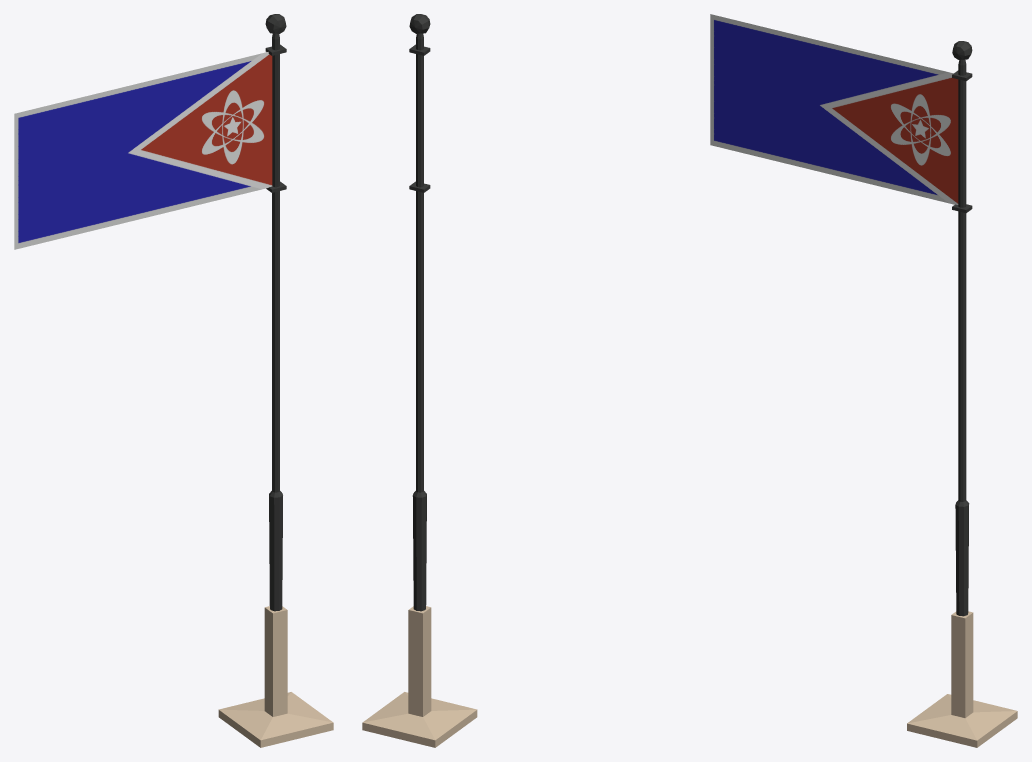
File: CountryFlag.glb
3 views of the same model, side by side, from view 1: azimuth 30°, elevation 25°; view 2: azimuth 150°, elevation 25°; view 3: azimuth 330°, elevation 25° (orthographic). The views are drawn at different scales.
Visible parts, largest first — view 1: flagPlane, flagPole; view 2: flagPole; view 3: flagPlane, flagPole.
Boxes of the visible parts, x1=… form: flagPlane: x1=14, y1=52, x2=272, y2=249; flagPole: x1=218, y1=14, x2=333, y2=747; flagPole: x1=362, y1=14, x2=477, y2=747; flagPlane: x1=710, y1=14, x2=958, y2=204; flagPole: x1=907, y1=41, x2=1017, y2=747.
Size of the model in its own units: 5.72 by 13 by 1.4.
Materials: 2 (2 with a texture image).
